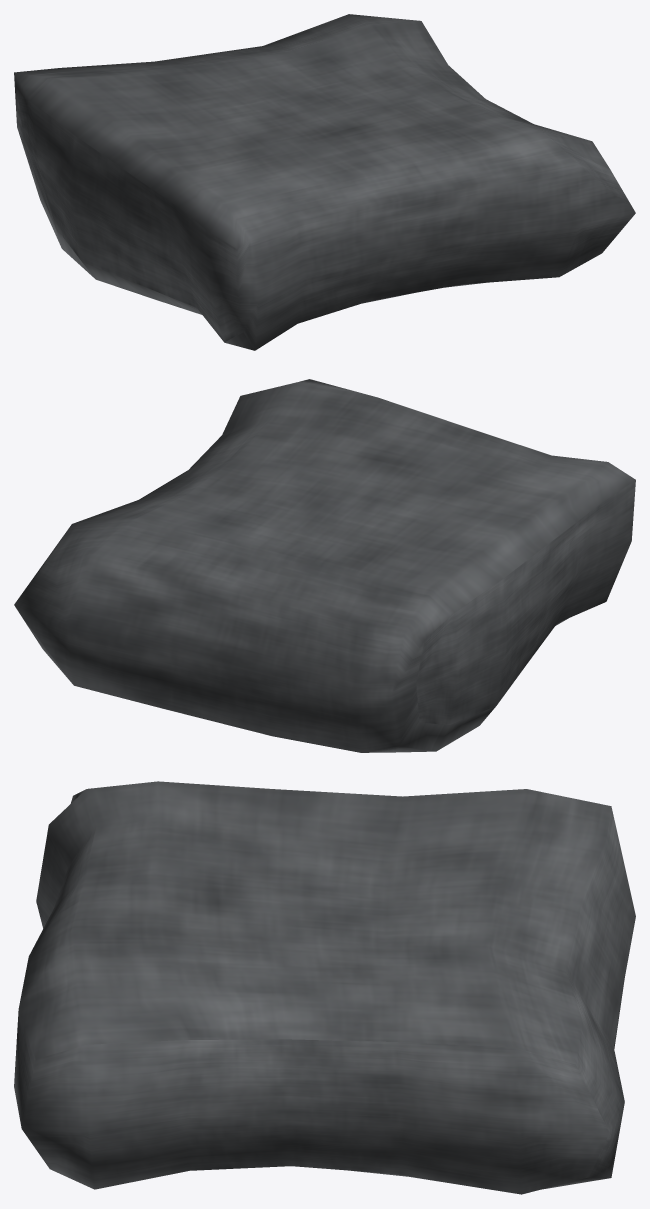
The model's file is Steen 5.fbx.
The picture shows the model from 3 angles, top to bottom: view 1: azimuth 30°, elevation 25°; view 2: azimuth 150°, elevation 25°; view 3: azimuth 270°, elevation 25°; orthographic projection. The views are drawn at different scales.
Visible parts, largest first — view 1: pCube4; view 2: pCube4; view 3: pCube4.
Part boxes in pixels (<box>): pCube4: <box>14,14,635,350</box>; pCube4: <box>14,379,635,752</box>; pCube4: <box>14,781,635,1194</box>.
Bounding box in the file's own units: 1.26 × 0.5107 × 1.3.
